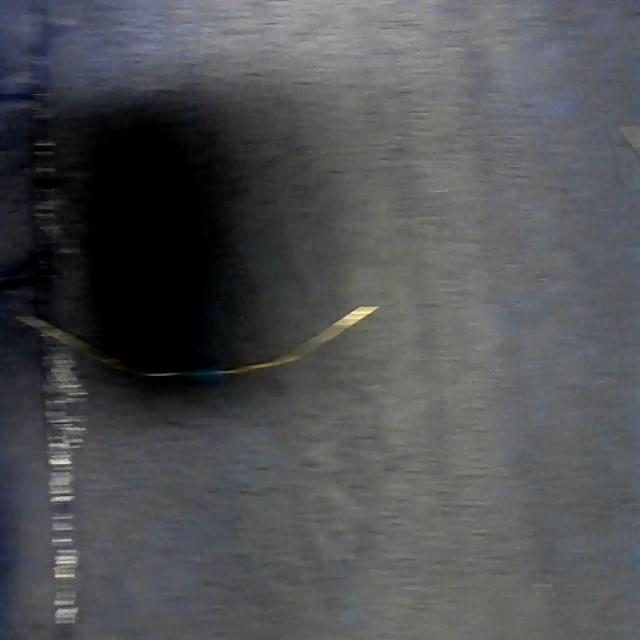resistor: (8, 311, 376, 383)
